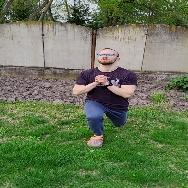lunges: (68, 46, 144, 153)
